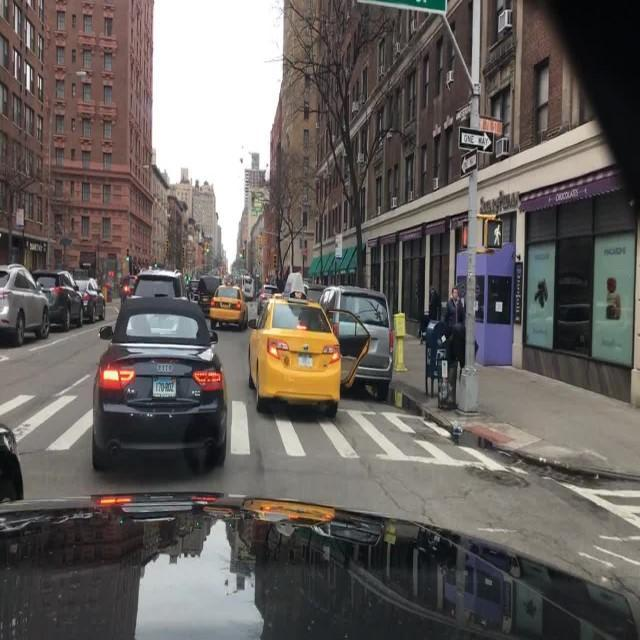normal: (92, 300, 230, 479), (245, 299, 342, 421), (316, 287, 394, 400), (0, 262, 50, 344), (32, 268, 85, 329), (208, 285, 248, 328), (76, 278, 105, 322)
